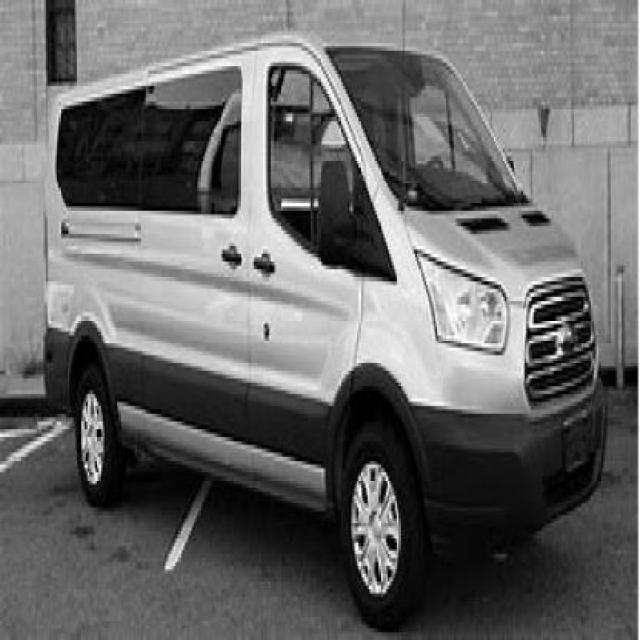Van: (41, 30, 608, 635)
